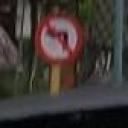NoVirarEsquerda: (36, 14, 82, 62)
